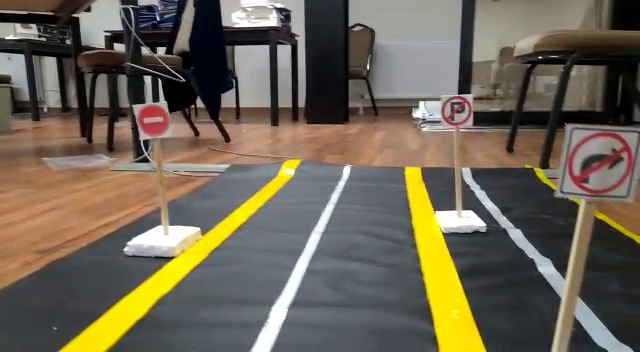girisi_olmayan_yol: (135, 103, 171, 139)
park_yapilmaz: (438, 94, 470, 127)
saga_donulmez: (561, 124, 635, 198)
